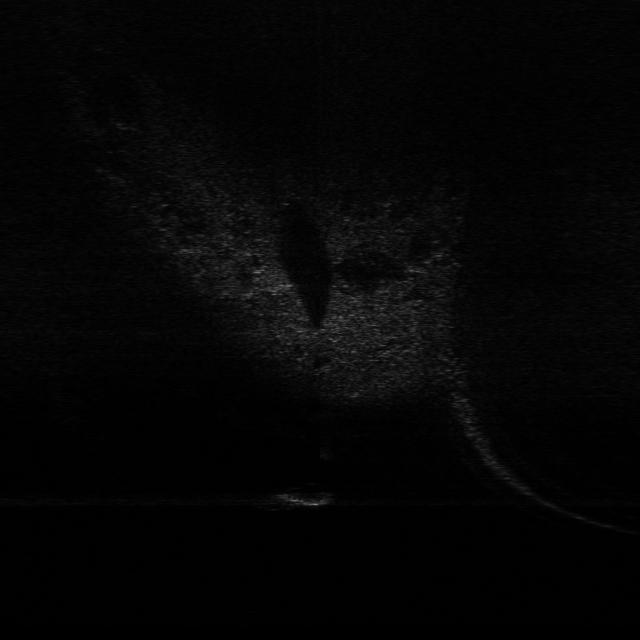cube: (266, 483, 333, 511)
